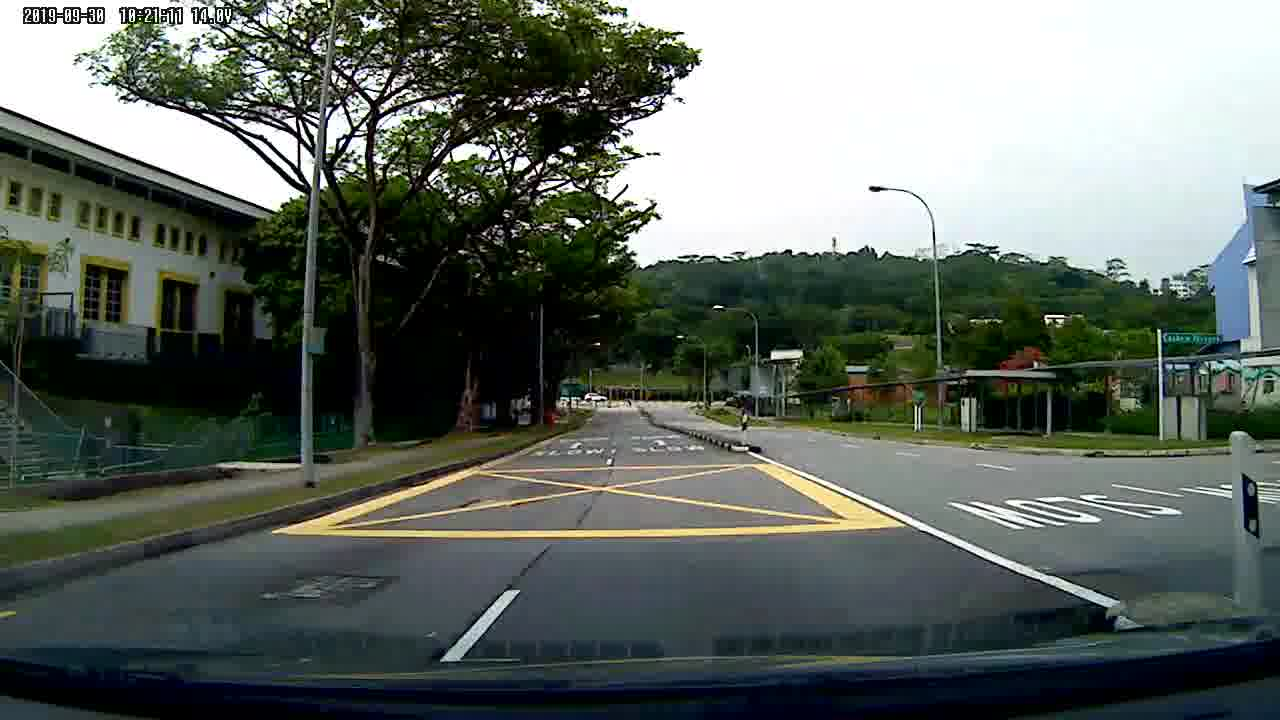car: (581, 391, 608, 403)
